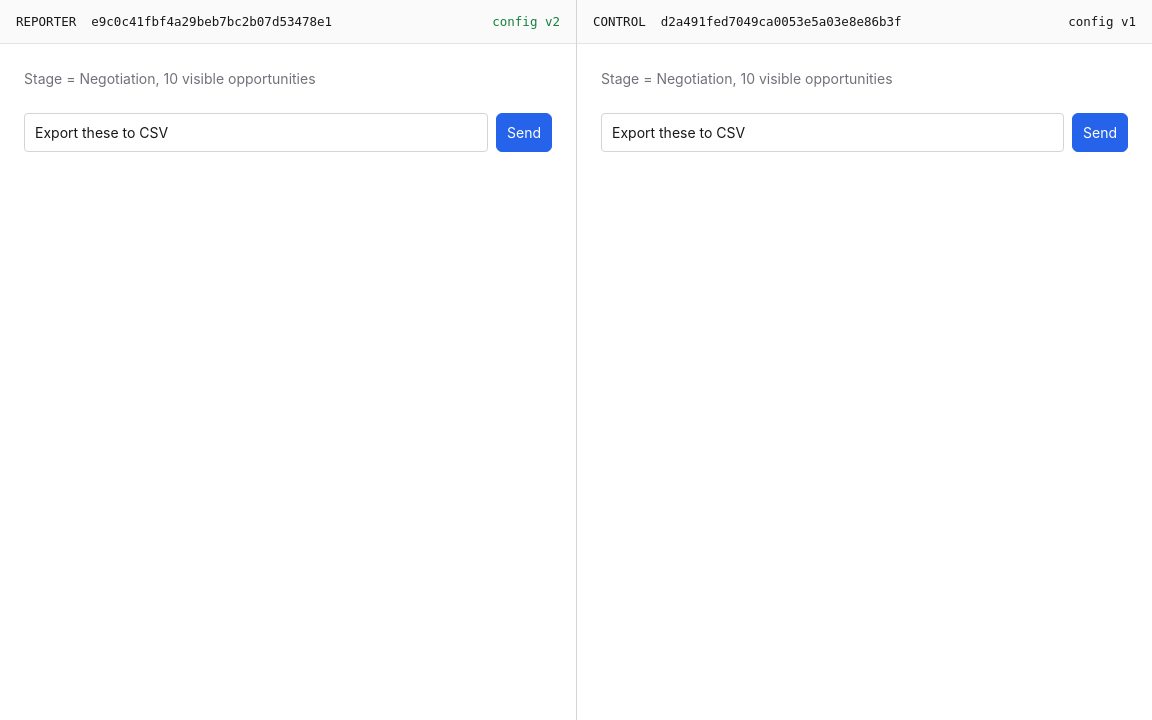
Test: DemoHarness › does not send an empty message
Clear the field below "REPORTER" at (256, 132), box [24,113,488,152]
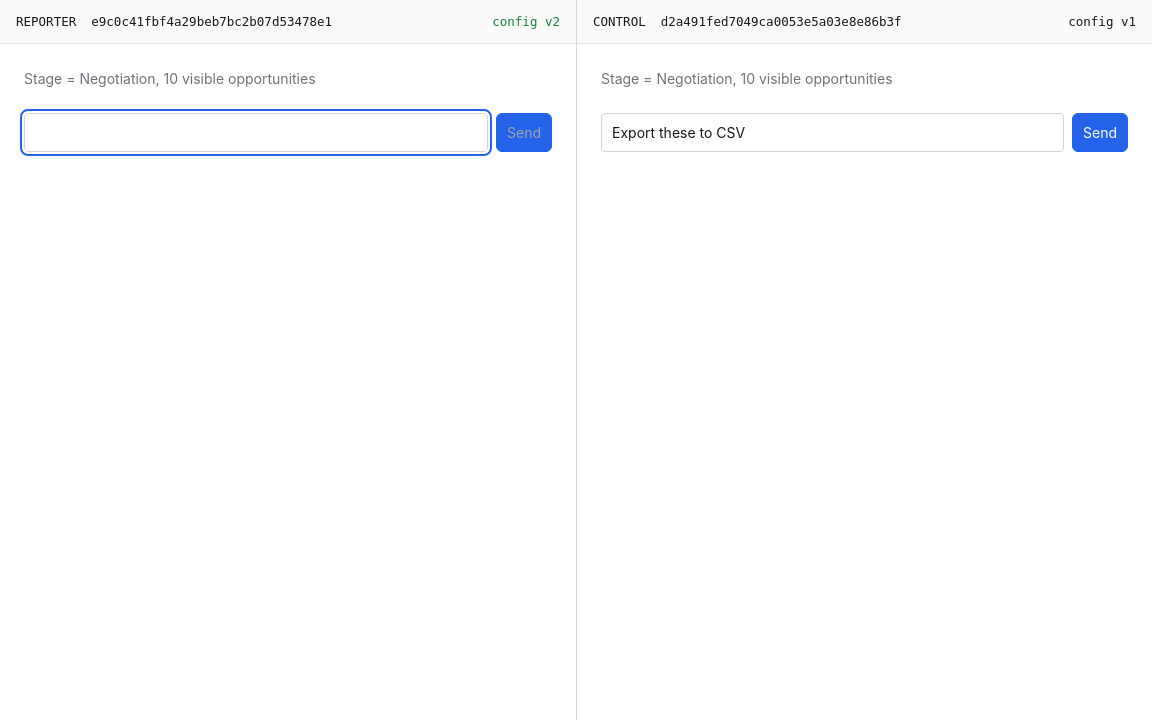
Expected: the button "Send" below "e9c0c41fbf4a29beb7bc2b07d53478e1" is disabled, [496,113,552,152]
